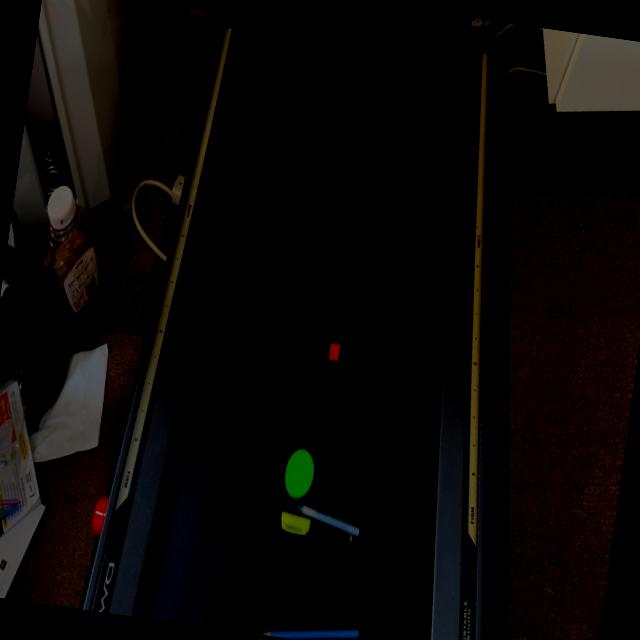Trash: (276, 446, 380, 550), (261, 618, 374, 640), (327, 342, 342, 362)
